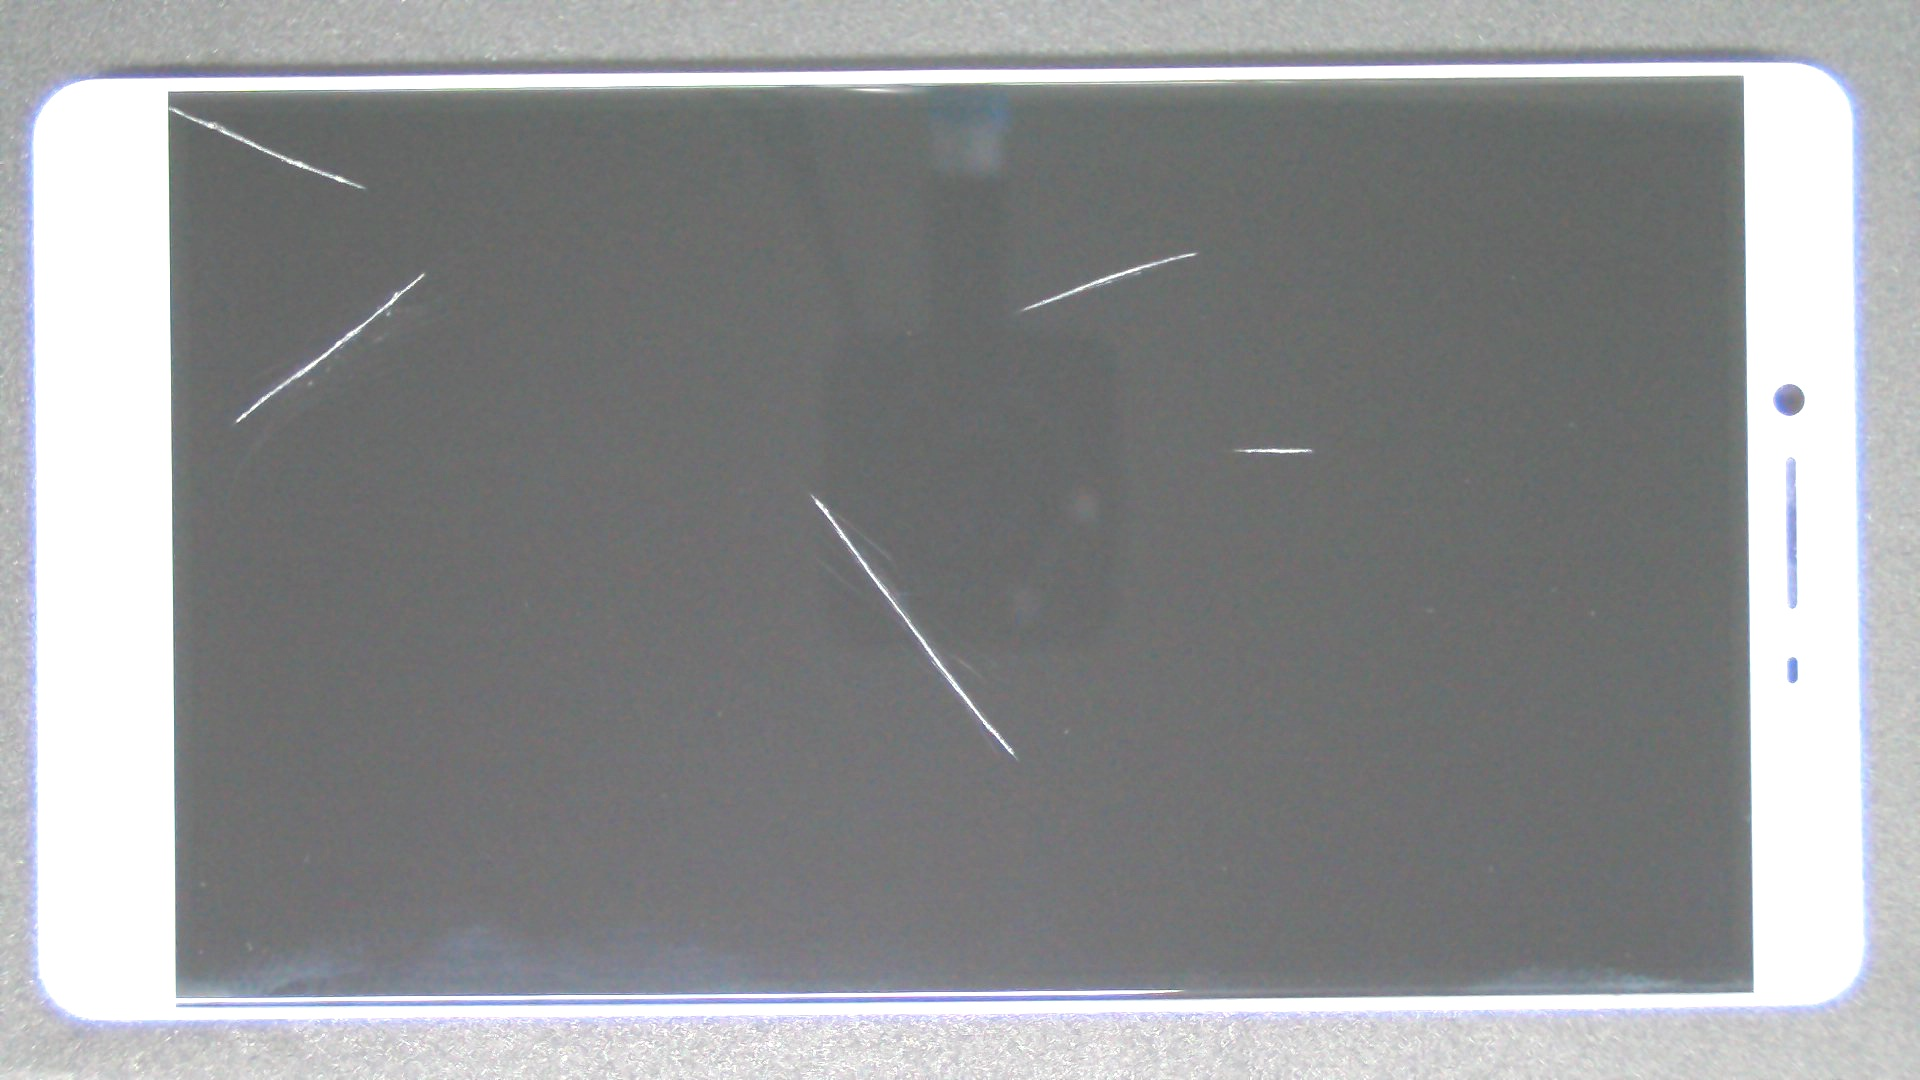oil: (632, 223, 1892, 671), (405, 245, 1213, 738), (600, 125, 1796, 377), (212, 136, 634, 409), (84, 53, 255, 160)
